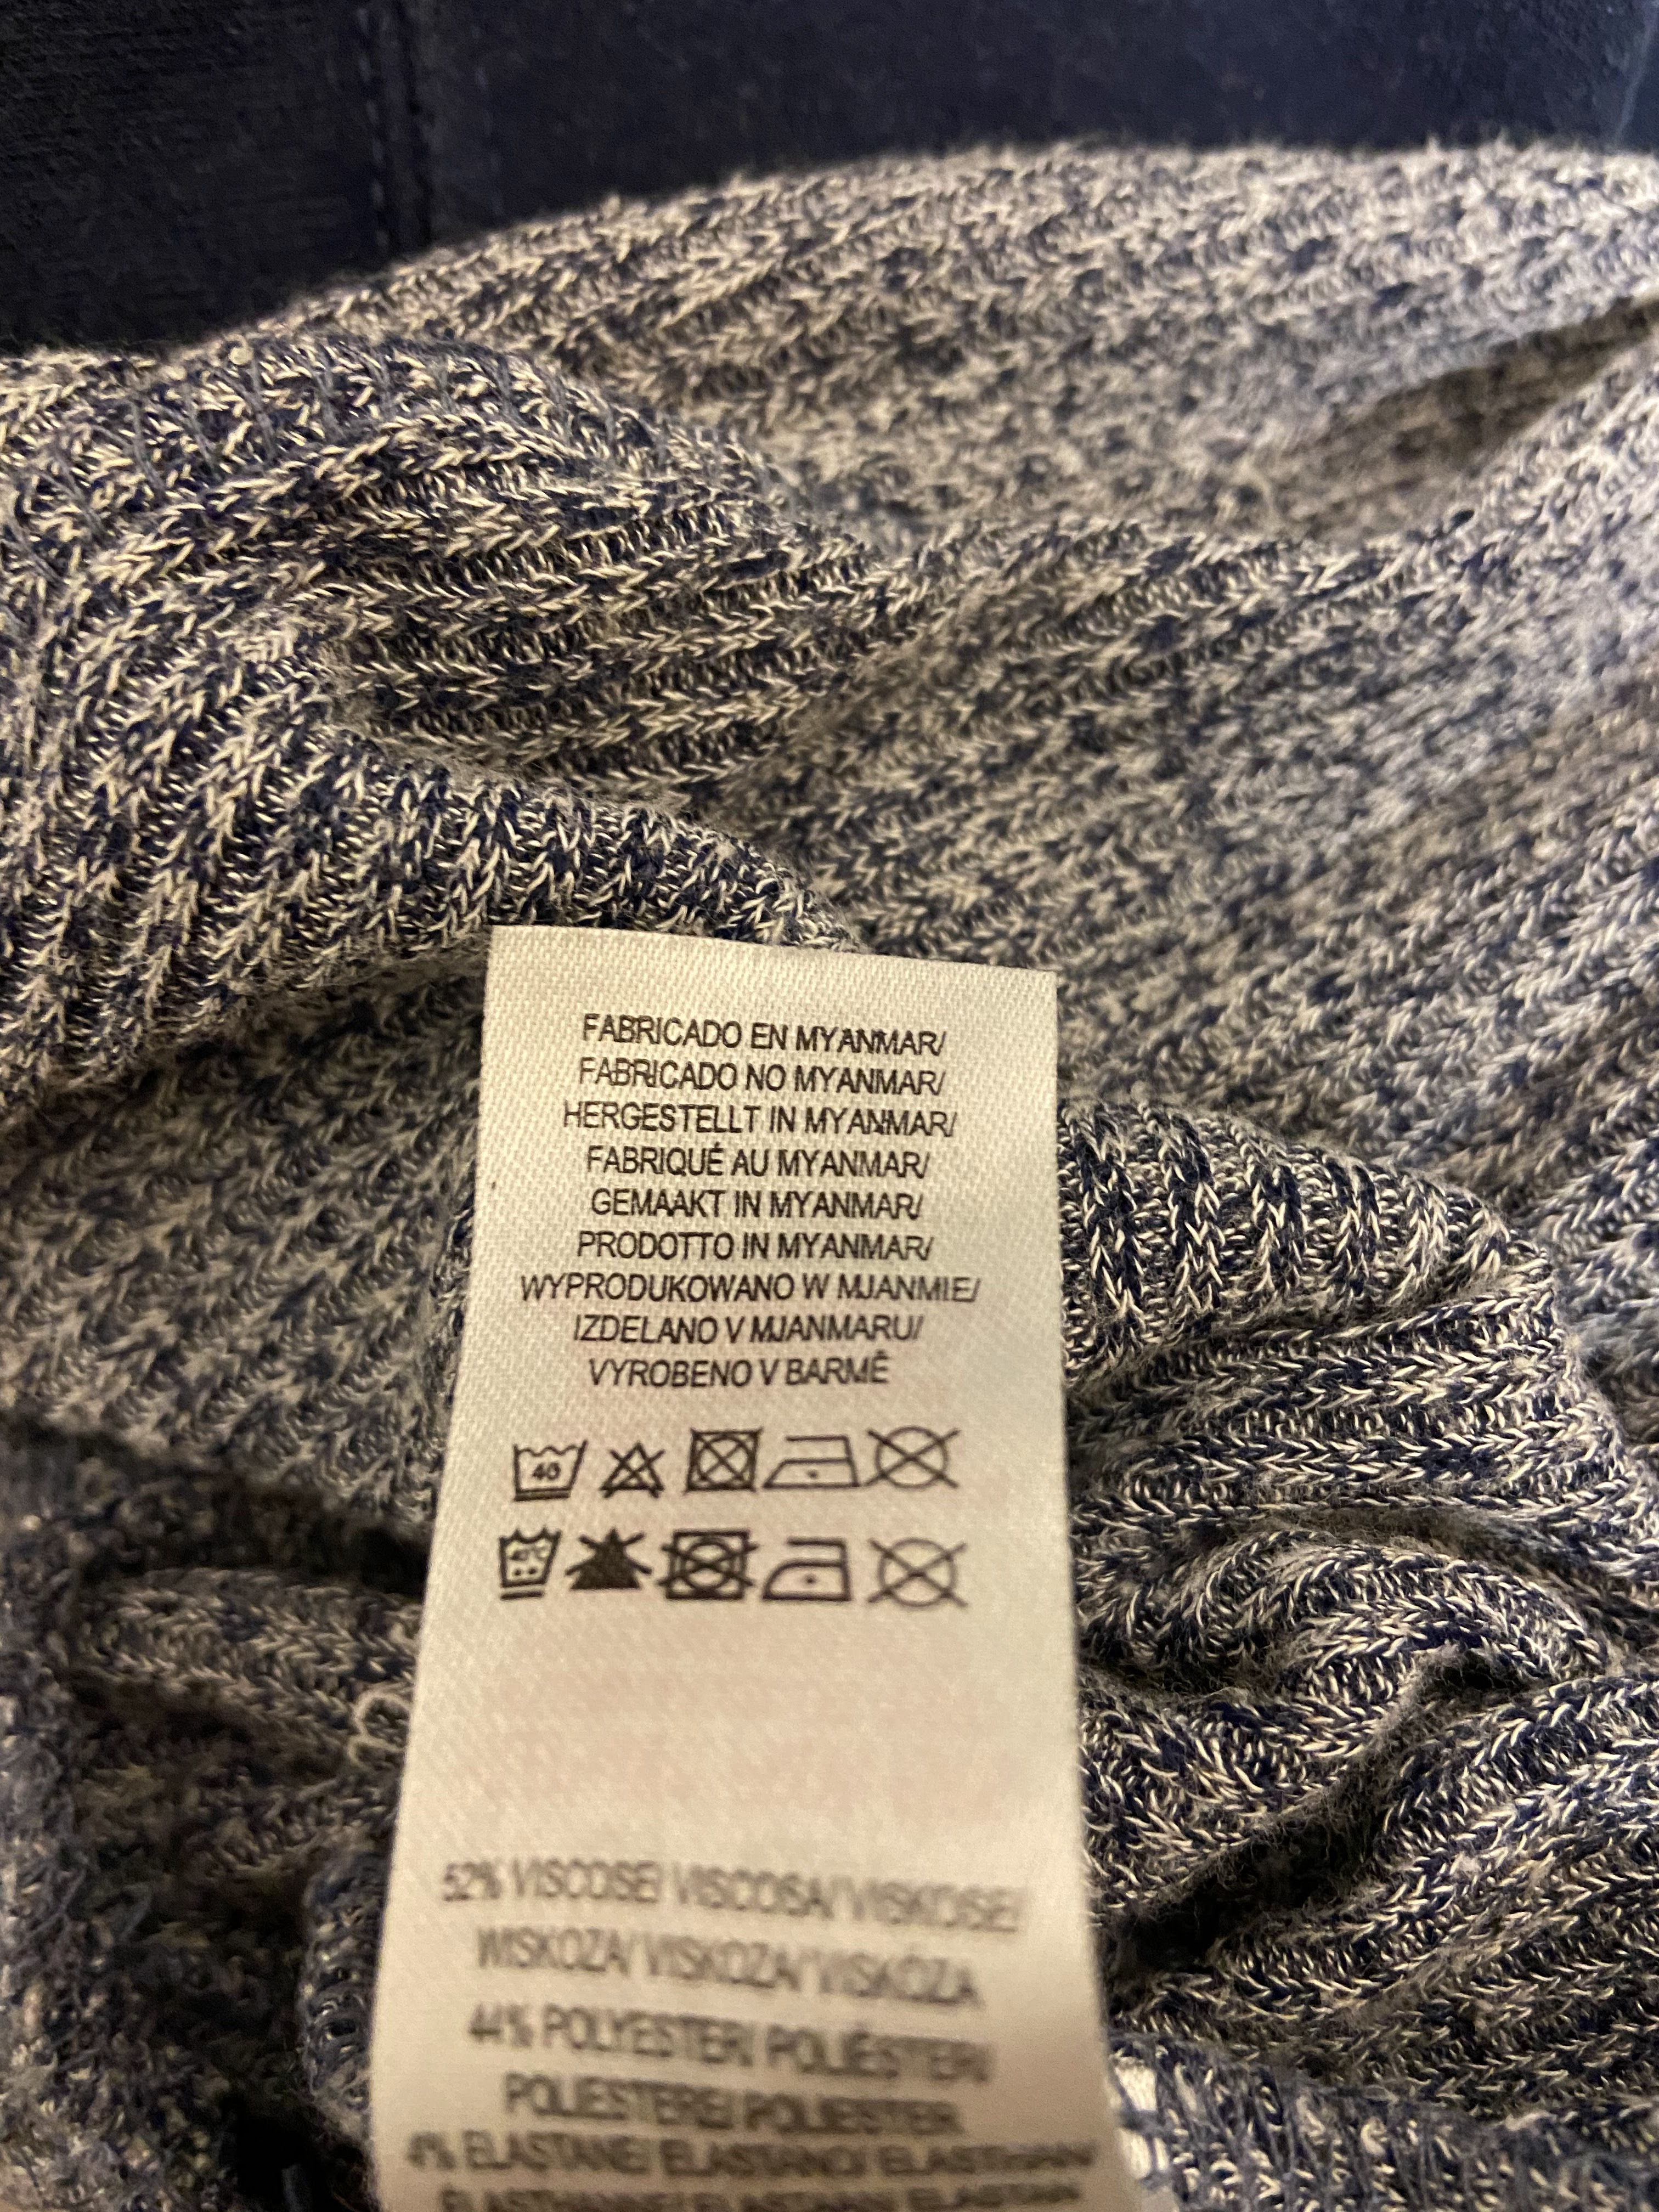do not bleach: (599, 1420, 674, 1517)
do not dry clean: (859, 1416, 979, 1500)
do not tumble dry: (674, 1409, 781, 1510)
iron low temp: (755, 1413, 878, 1496)
wash at or below 40: (516, 1426, 599, 1521)
